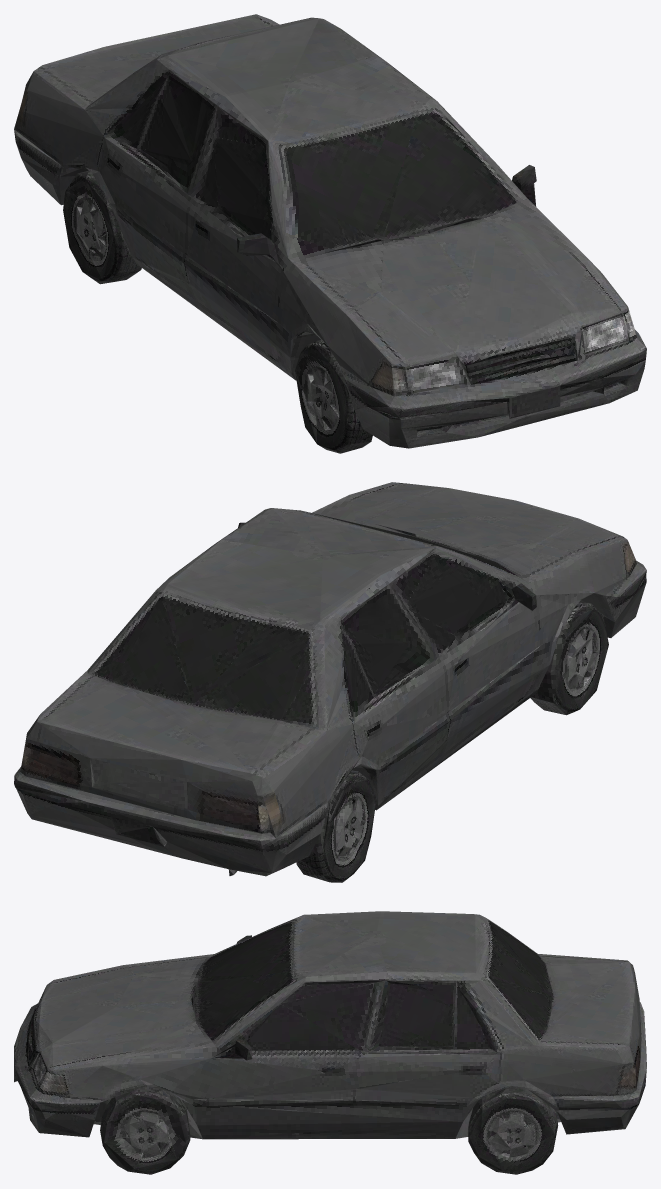
File: sedan_graphite.glb
3 renders of one model, top to bottom at view 1: azimuth 30°, elevation 25°; view 2: azimuth 150°, elevation 25°; view 3: azimuth 270°, elevation 25°, orthographic. The views are drawn at different scales.
Parts seen in each view (by area): view 1: car_sedan; view 2: car_sedan; view 3: car_sedan.
Part boxes in pixels (x1,y1,x2,y2): car_sedan: (14,14,646,453); car_sedan: (14,482,646,882); car_sedan: (14,911,646,1174).
Bounding box in the file's own units: 1.96 × 1.48 × 4.55.
1 material, 1 textured.
